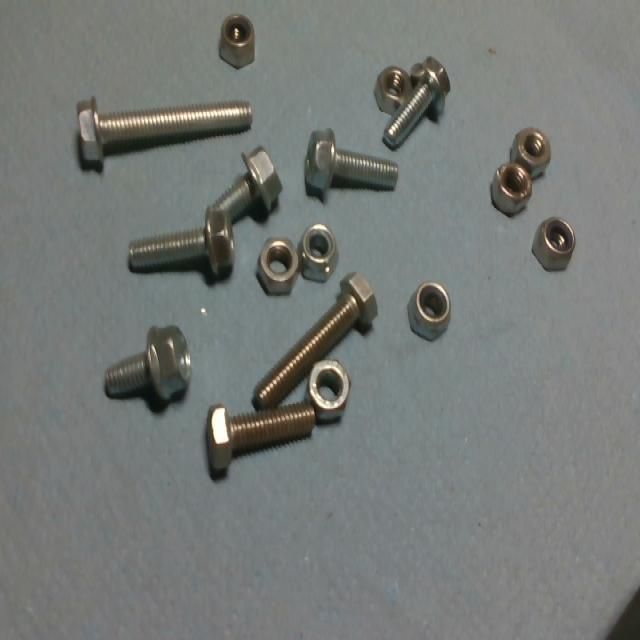Bolt: (248, 260, 376, 415), (71, 80, 262, 177), (195, 398, 328, 482), (296, 118, 406, 218), (98, 316, 201, 418), (129, 200, 235, 295), (376, 49, 461, 147), (204, 140, 284, 226)
Nut: (402, 271, 461, 340), (530, 210, 583, 276), (299, 210, 343, 279), (307, 353, 353, 419), (487, 163, 532, 226), (508, 122, 557, 174), (256, 238, 299, 292), (220, 9, 258, 69)
